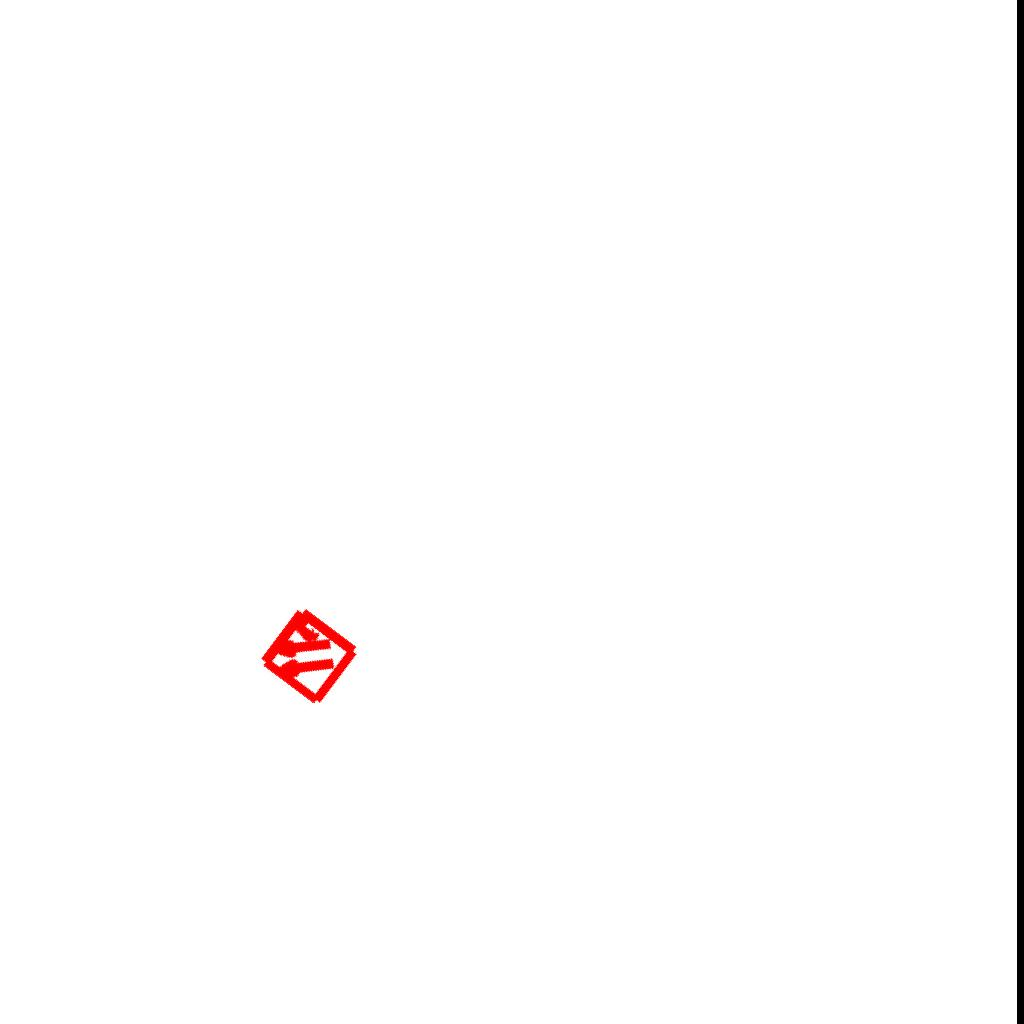OT_Multisensormelder_(Kombination_RMO_WMD): (228, 575, 387, 734)
